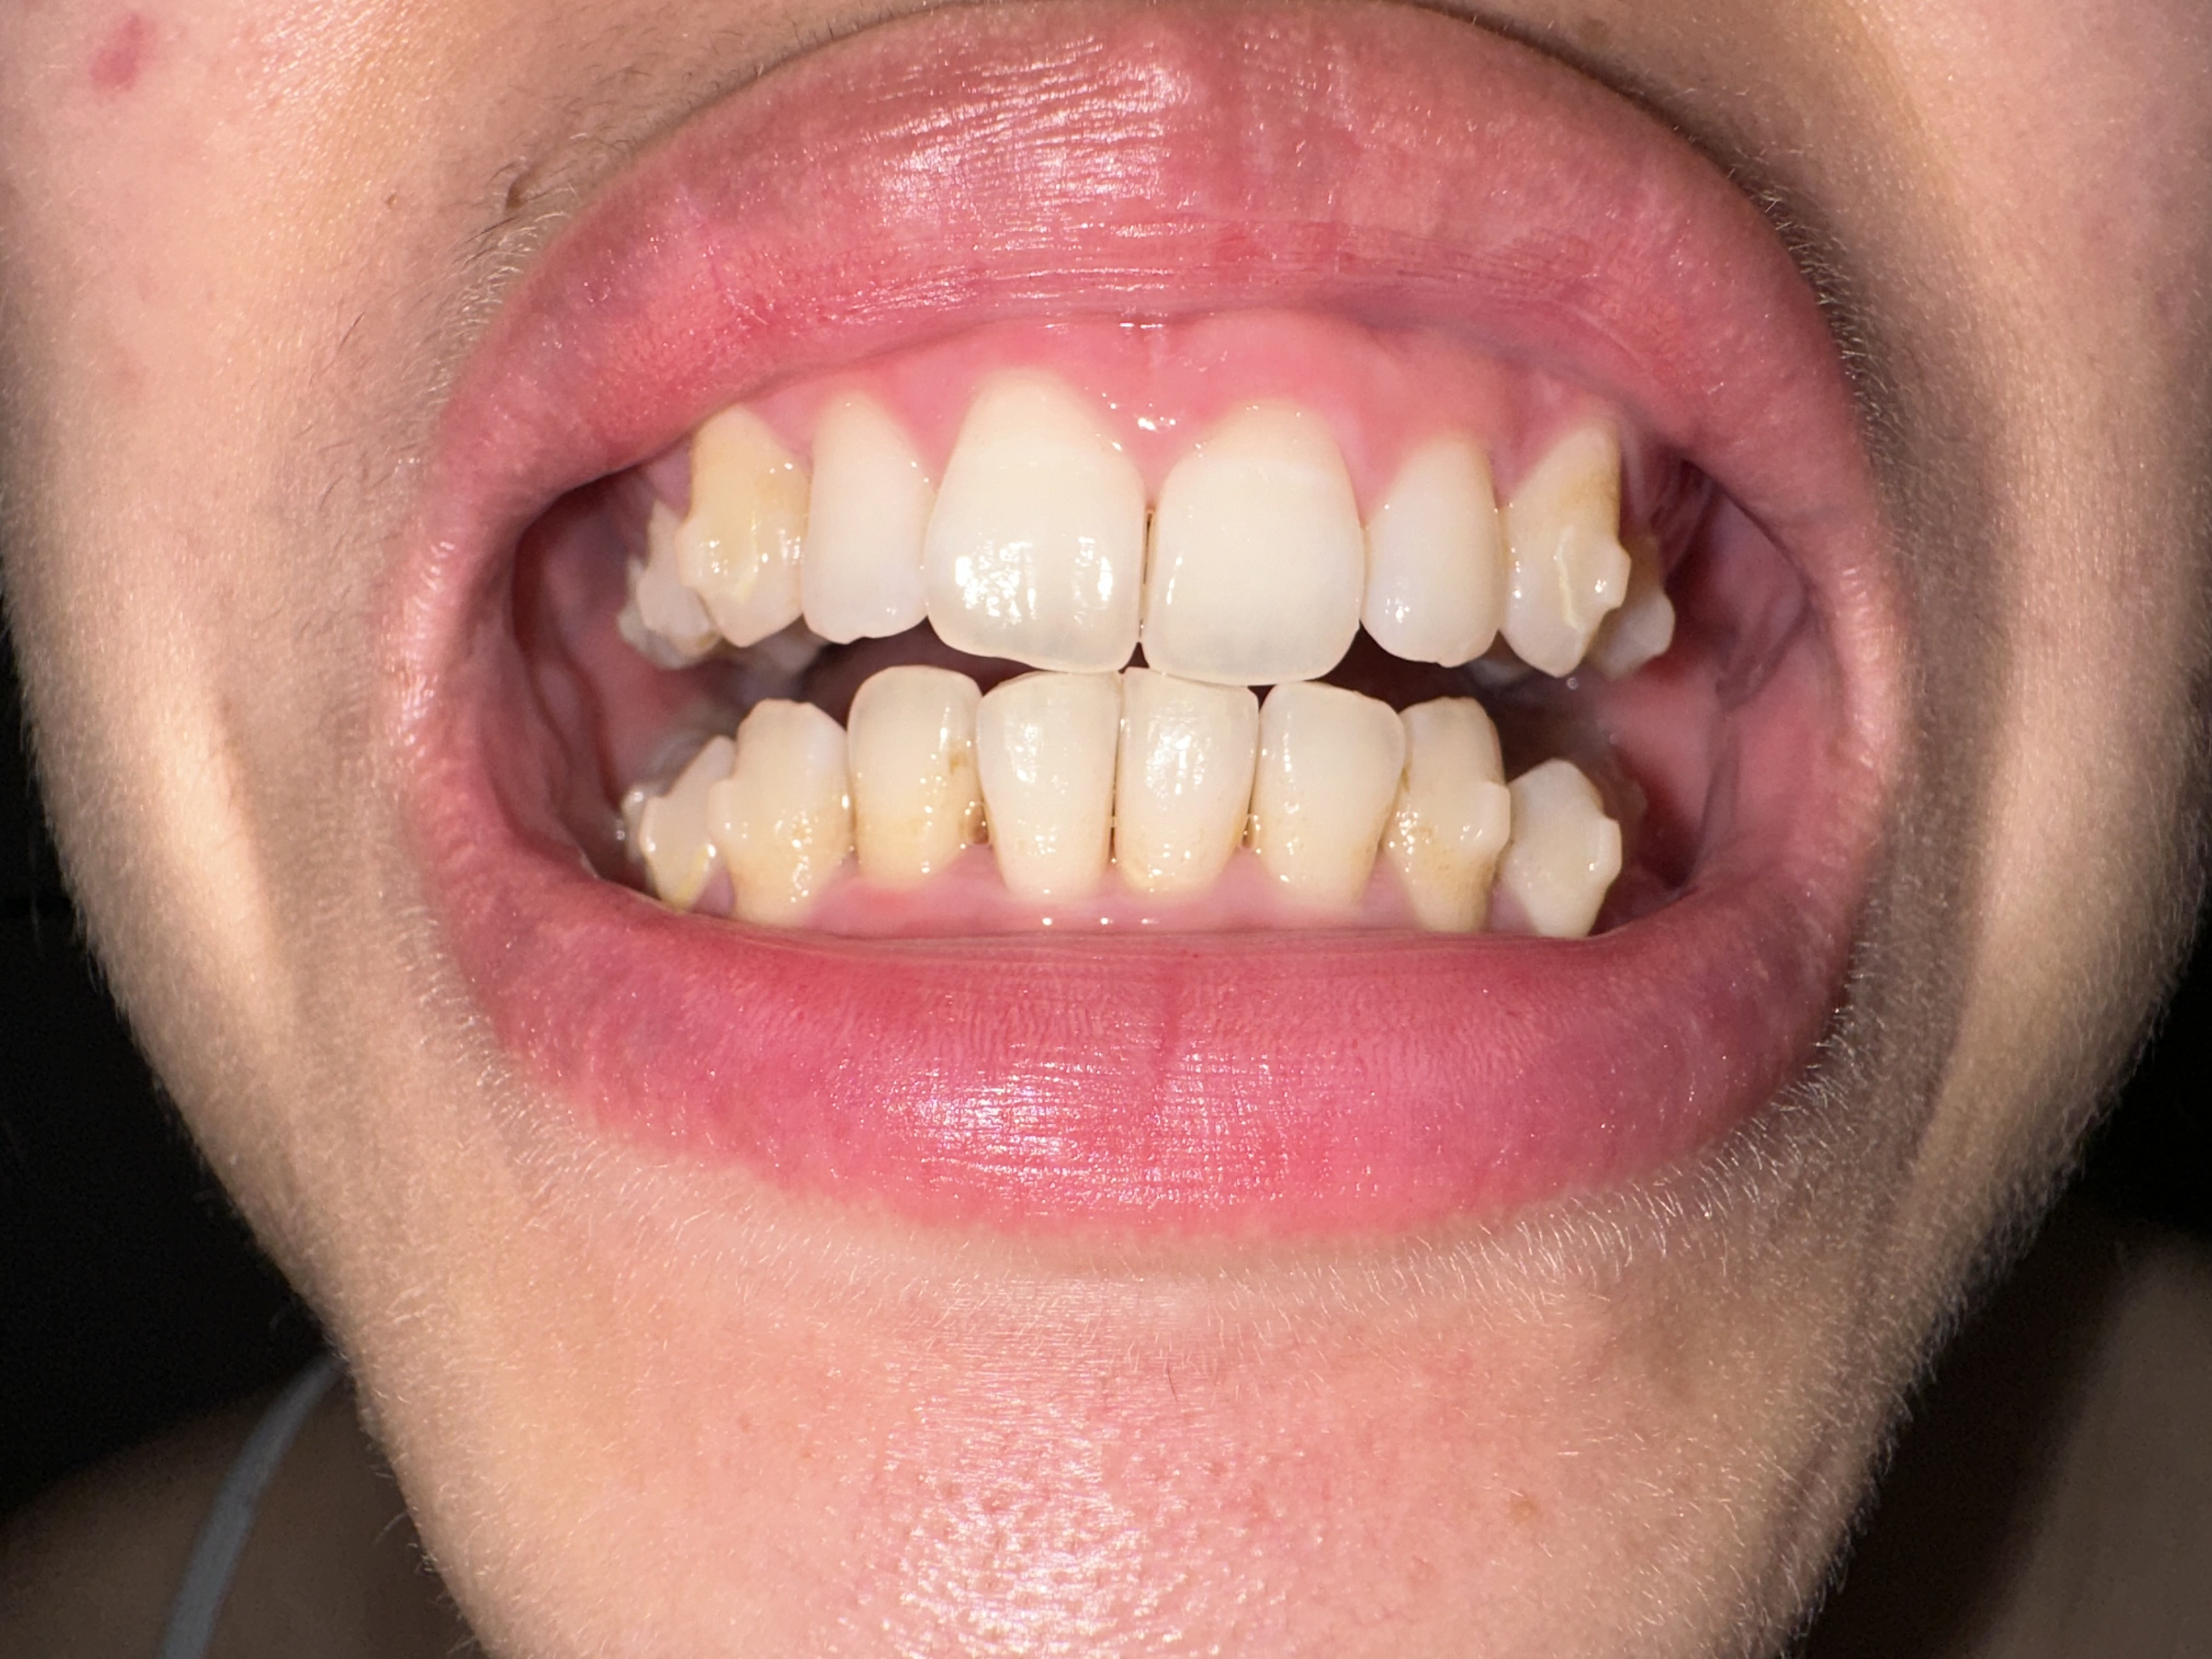teeth: (927, 378, 1143, 667), (1150, 403, 1364, 678), (1256, 681, 1402, 892), (1366, 436, 1500, 660), (979, 678, 1116, 894), (1118, 671, 1249, 889), (1507, 423, 1622, 671), (806, 396, 923, 638), (690, 404, 810, 634), (1390, 699, 1508, 924), (846, 669, 970, 880), (732, 704, 846, 915), (1505, 765, 1620, 934)
